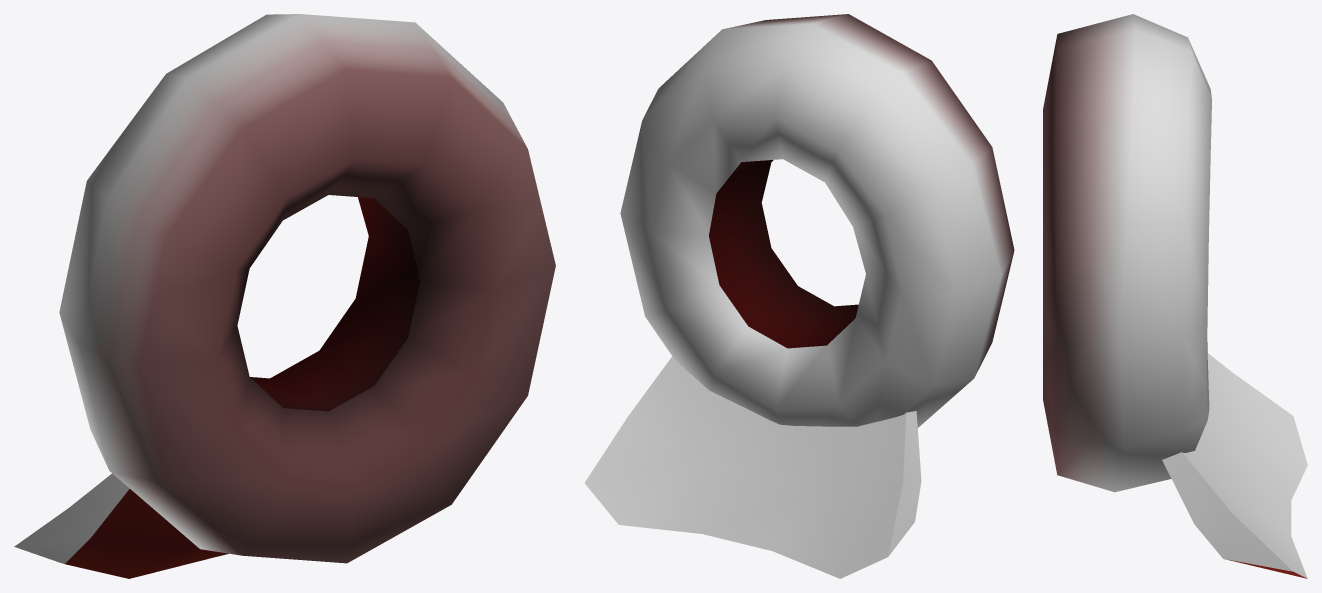
Rendered from McQueenTube.fbx.
The picture shows the model from 3 angles, left to right: view 1: azimuth 30°, elevation 25°; view 2: azimuth 150°, elevation 25°; view 3: azimuth 270°, elevation 25°; orthographic projection. The views are drawn at different scales.
Parts seen in each view (by area): view 1: McQueenTube; view 2: McQueenTube; view 3: McQueenTube.
Boxes of the visible parts, x1,y1,x2,y2 form: McQueenTube: [14, 14, 555, 578]; McQueenTube: [584, 14, 1014, 578]; McQueenTube: [1043, 14, 1307, 578].
Size of the model in its own units: 93.11 by 114 by 55.76.
